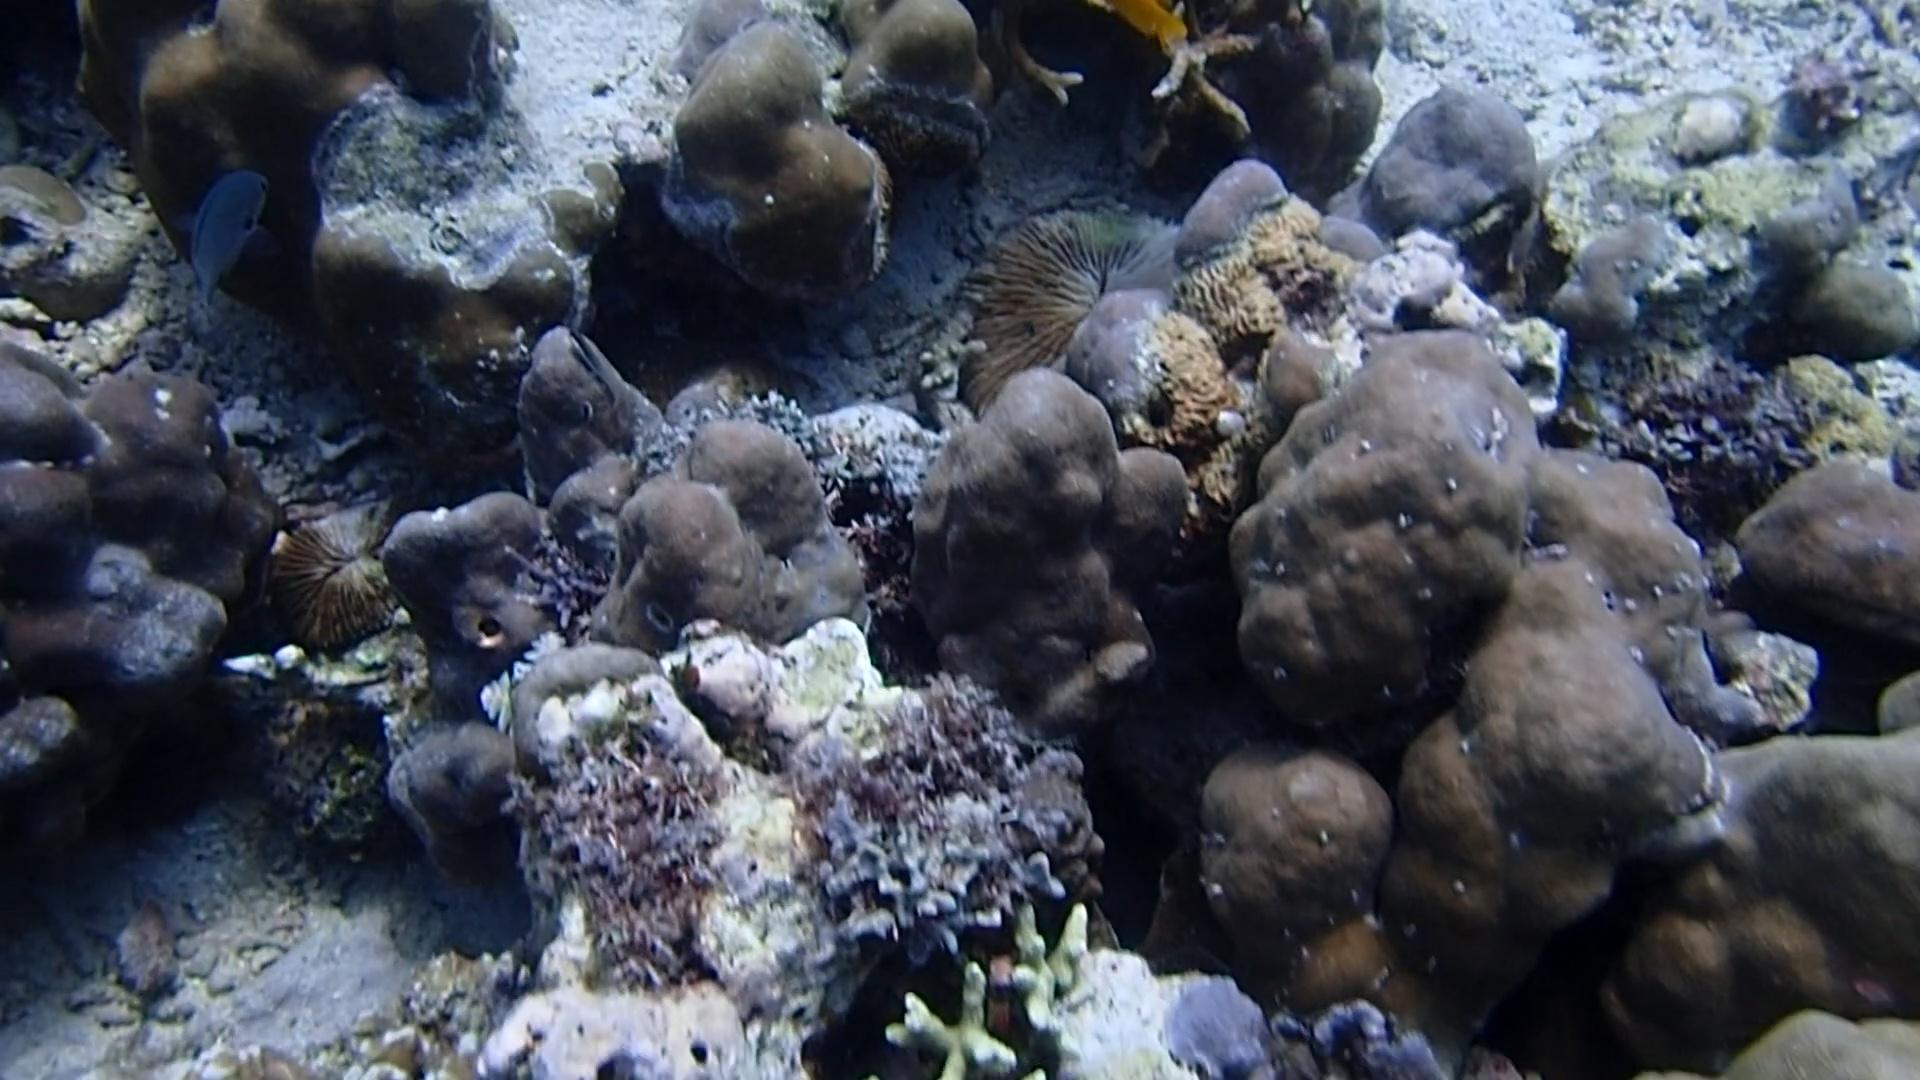Blue Fish Two: (171, 160, 282, 299)
Yellow Fish: (1101, 0, 1192, 66)
